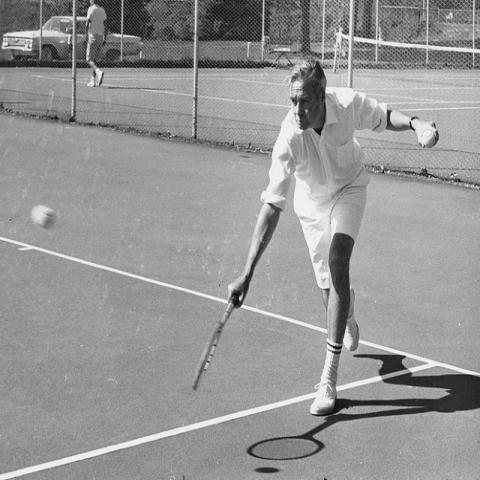car: (2, 15, 143, 64)
